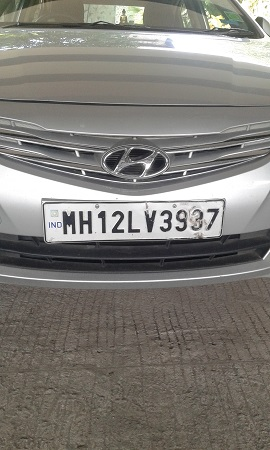licenseplate: (43, 194, 229, 245)
